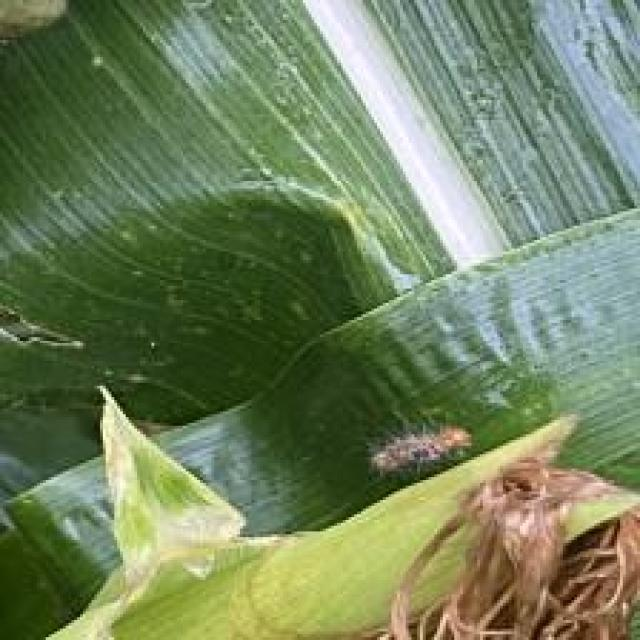Plaga: (360, 407, 483, 484)
